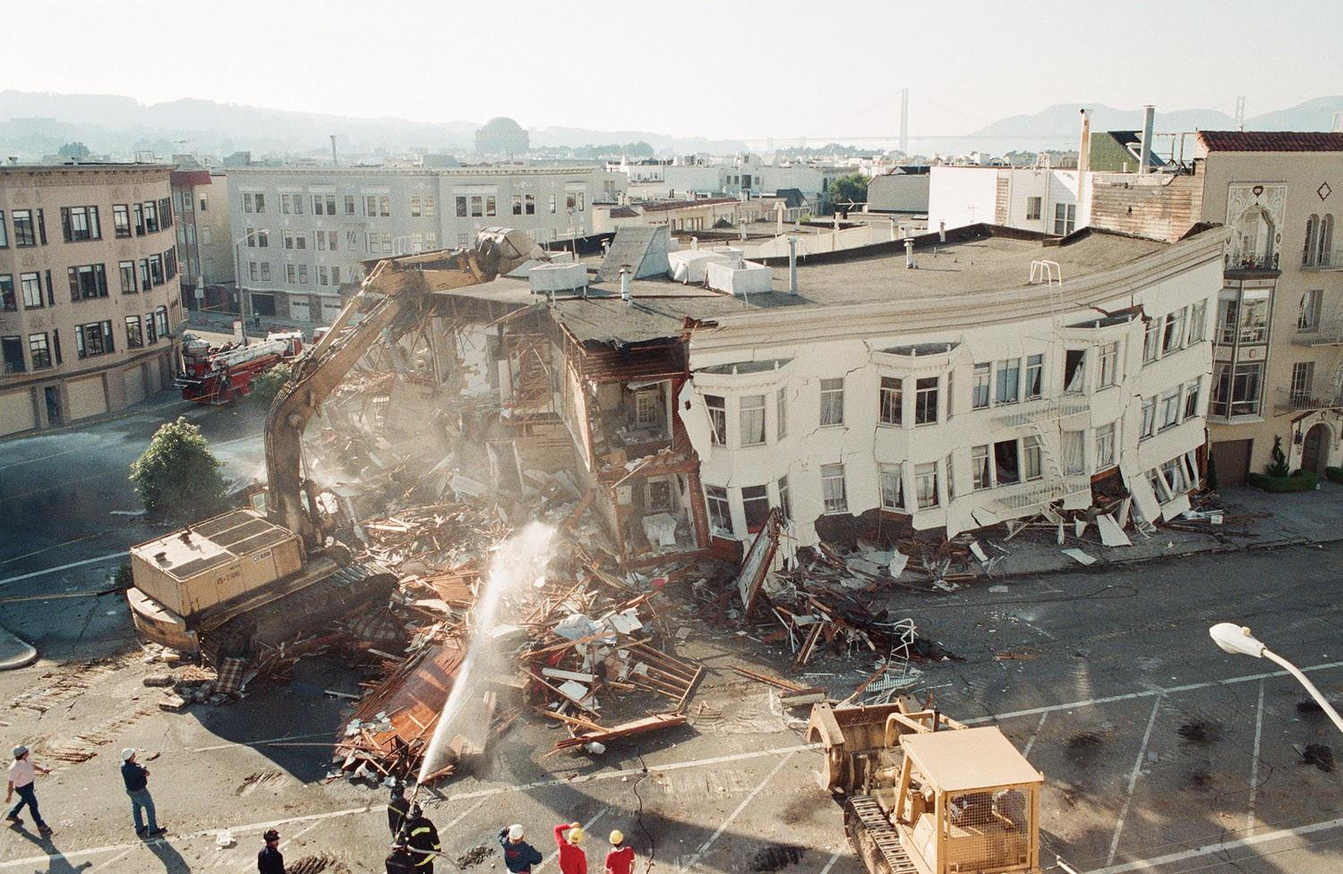victim: (4, 743, 54, 849), (115, 747, 167, 846), (381, 761, 424, 862)
